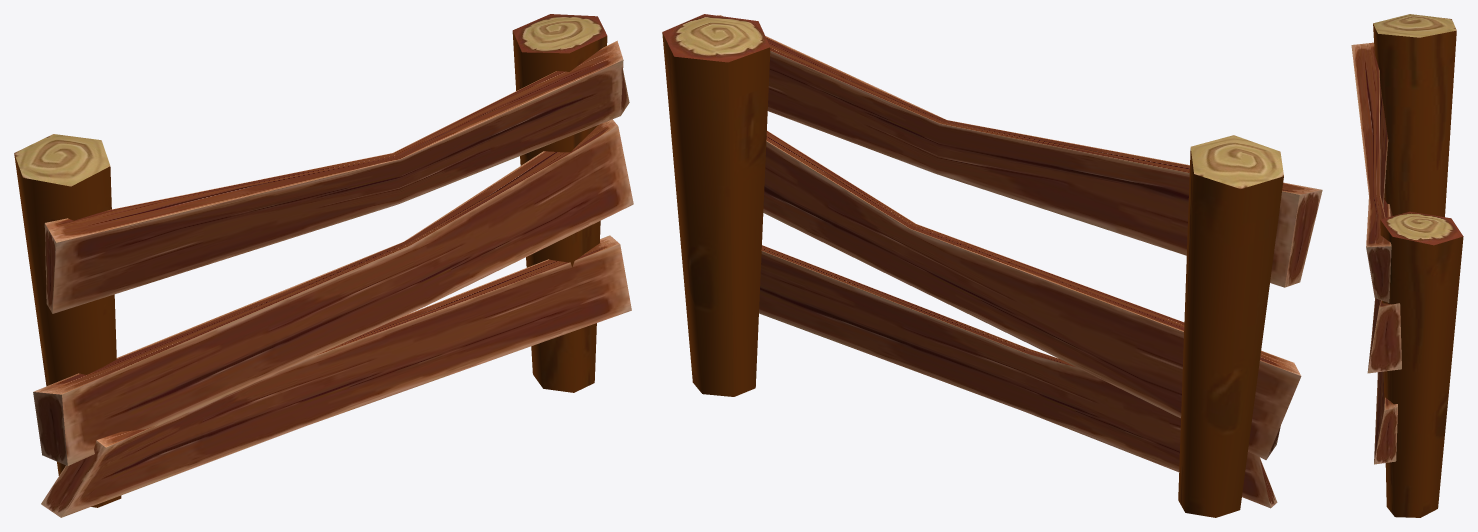
Rendered from SM_PROP_fence_v02_03.glb.
The picture shows the model from 3 angles, left to right: view 1: azimuth 30°, elevation 25°; view 2: azimuth 150°, elevation 25°; view 3: azimuth 270°, elevation 25°; orthographic projection. The views are drawn at different scales.
Parts seen in each view (by area): view 1: SM_PROP_fence_v02_03_EXPORT; view 2: SM_PROP_fence_v02_03_EXPORT; view 3: SM_PROP_fence_v02_03_EXPORT.
Part boxes in pixels (bbox=[...]): SM_PROP_fence_v02_03_EXPORT: bbox=[14, 14, 633, 517]; SM_PROP_fence_v02_03_EXPORT: bbox=[662, 14, 1322, 517]; SM_PROP_fence_v02_03_EXPORT: bbox=[1351, 14, 1463, 517].
Size of the model in its own units: 2.09 by 1.17 by 0.4115.
Materials: 3 (3 with a texture image).
